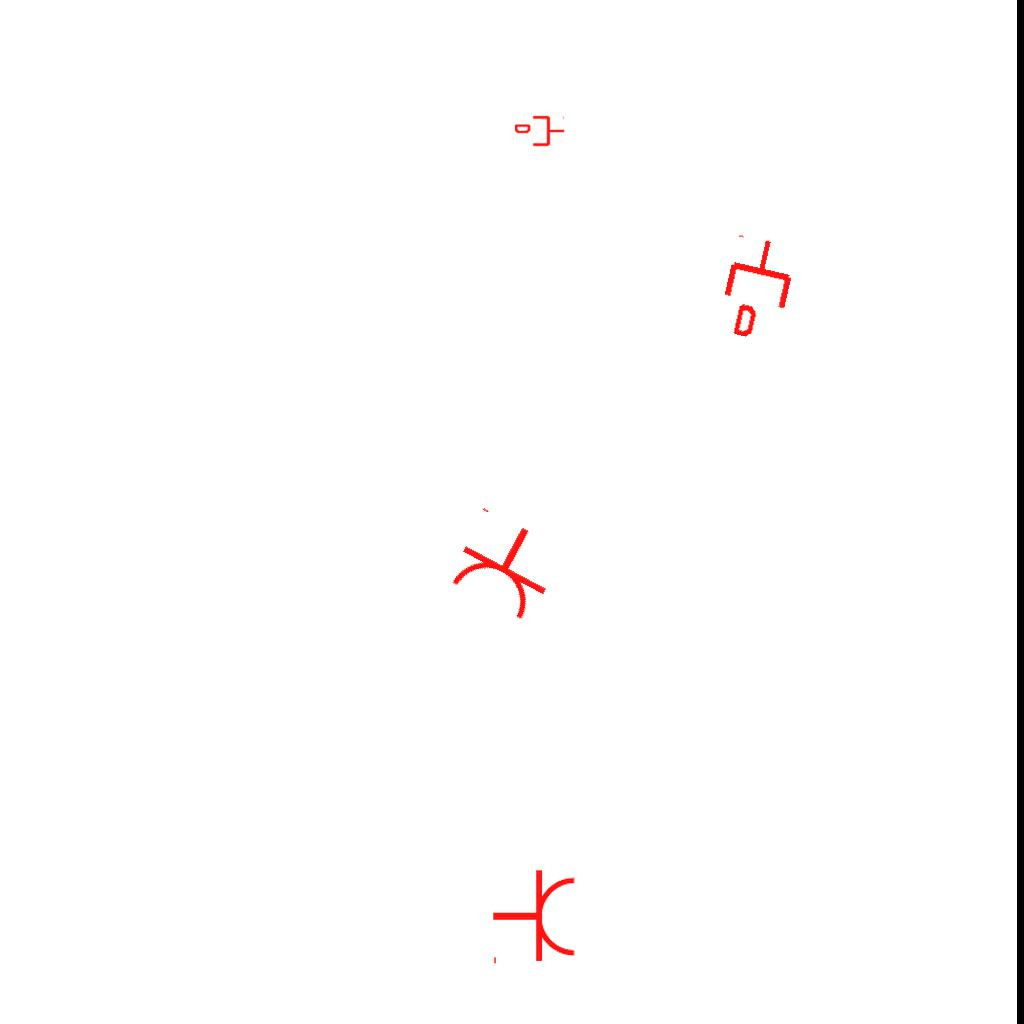Datenanschluss_einfach: (712, 231, 803, 345), (515, 114, 565, 148)
Schukosteckdose_einfach: (439, 503, 570, 627), (491, 868, 578, 968)
